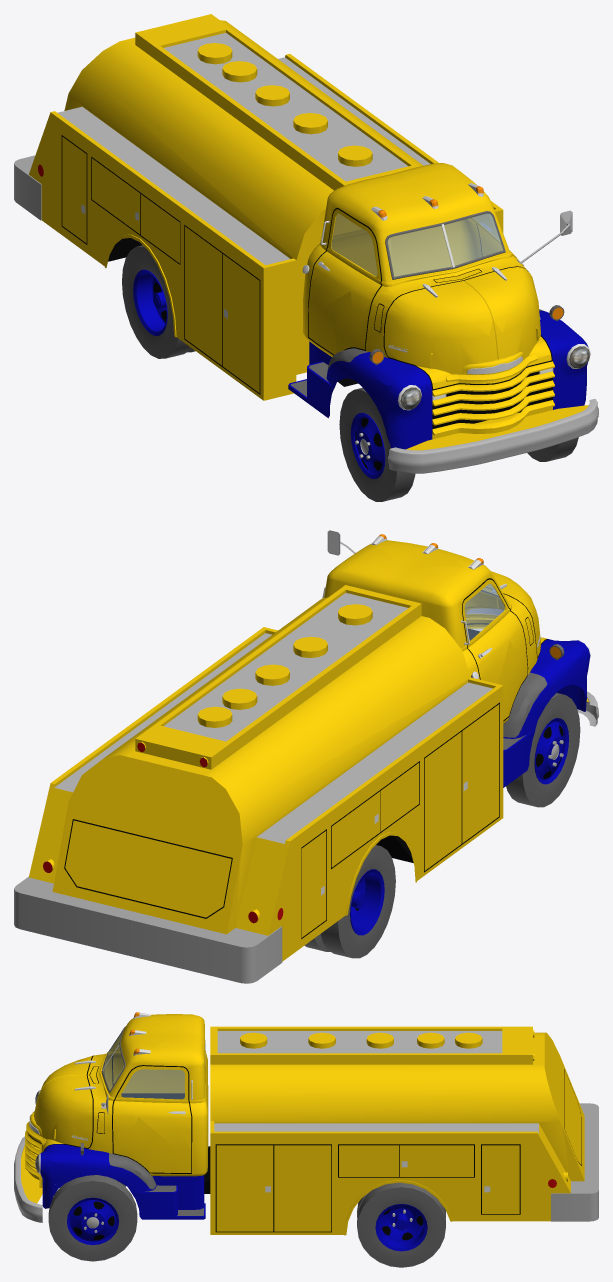
File: gastruck.gltf
3 renders of one model, top to bottom at view 1: azimuth 30°, elevation 25°; view 2: azimuth 150°, elevation 25°; view 3: azimuth 270°, elevation 25°, orthographic. The views are drawn at different scales.
Visible parts, largest first — view 1: 3DGeom-2, 3DGeom-1, 3DGeom-5, 3DGeom-4, 3DGeom-12, 3DGeom-3, 3DGeom-8, 3DGeom-9, 3DGeom-6, 3DGeom-14, 3DGeom-7; view 2: 3DGeom-2, 3DGeom-1, 3DGeom-9, 3DGeom-5, 3DGeom-4, 3DGeom-3, 3DGeom-7, 3DGeom-12; view 3: 3DGeom-2, 3DGeom-4, 3DGeom-5, 3DGeom-1, 3DGeom-3, 3DGeom-9, 3DGeom-12.
Part boxes in pixels (left/top/right/bottom): 3DGeom-2: left=29, top=14, right=588, bottom=450; 3DGeom-1: left=57, top=33, right=598, bottom=473; 3DGeom-5: left=133, top=269, right=588, bottom=478; 3DGeom-4: left=122, top=211, right=578, bottom=501; 3DGeom-12: left=331, top=213, right=502, bottom=276; 3DGeom-3: left=61, top=135, right=552, bottom=470; 3DGeom-8: left=308, top=207, right=552, bottom=429; 3DGeom-9: left=14, top=155, right=41, bottom=220; 3DGeom-6: left=81, top=204, right=590, bottom=410; 3DGeom-14: left=400, top=346, right=589, bottom=409; 3DGeom-7: left=291, top=348, right=368, bottom=396; 3DGeom-2: left=29, top=540, right=589, bottom=961; 3DGeom-1: left=54, top=593, right=598, bottom=843; 3DGeom-9: left=14, top=876, right=282, bottom=983; 3DGeom-5: left=350, top=639, right=590, bottom=935; 3DGeom-4: left=304, top=590, right=580, bottom=958; 3DGeom-3: left=64, top=587, right=563, bottom=938; 3DGeom-7: left=503, top=672, right=547, bottom=749; 3DGeom-12: left=464, top=584, right=504, bottom=640; 3DGeom-2: left=21, top=1014, right=584, bottom=1235; 3DGeom-4: left=48, top=1026, right=445, bottom=1267; 3DGeom-5: left=40, top=1144, right=427, bottom=1251; 3DGeom-1: left=14, top=1031, right=538, bottom=1232; 3DGeom-3: left=28, top=1055, right=581, bottom=1240; 3DGeom-9: left=551, top=1103, right=598, bottom=1221; 3DGeom-12: left=103, top=1032, right=184, bottom=1099.
Size of the model in its own units: 2.36 by 2.38 by 6.4.
15 materials, 1 textured.
